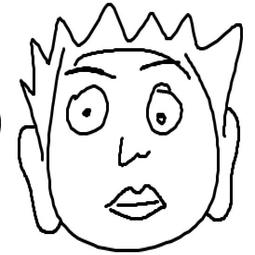cupid_mouth: (92, 180, 177, 231)
eye: (62, 83, 110, 138), (142, 80, 186, 138)
eyebrow: (62, 64, 122, 81)
frowning_eyebrow: (138, 59, 174, 71)
large_ear: (12, 124, 65, 241), (203, 105, 243, 227)
nose: (113, 135, 155, 174)
